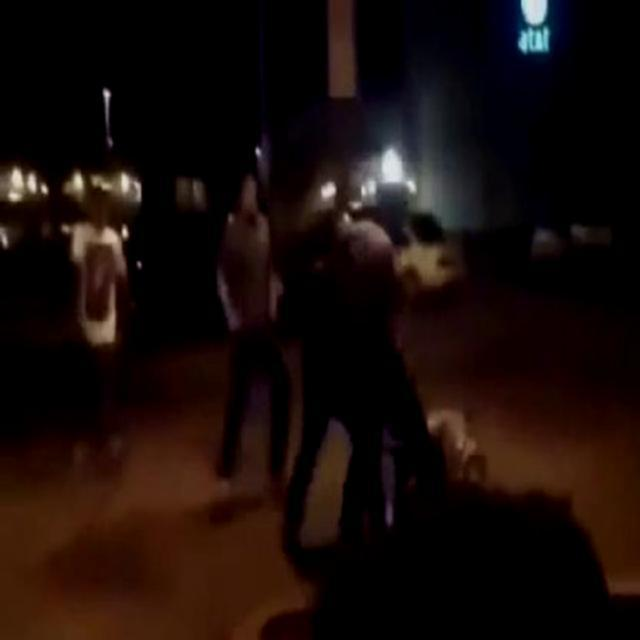fight: (271, 222, 484, 550)
